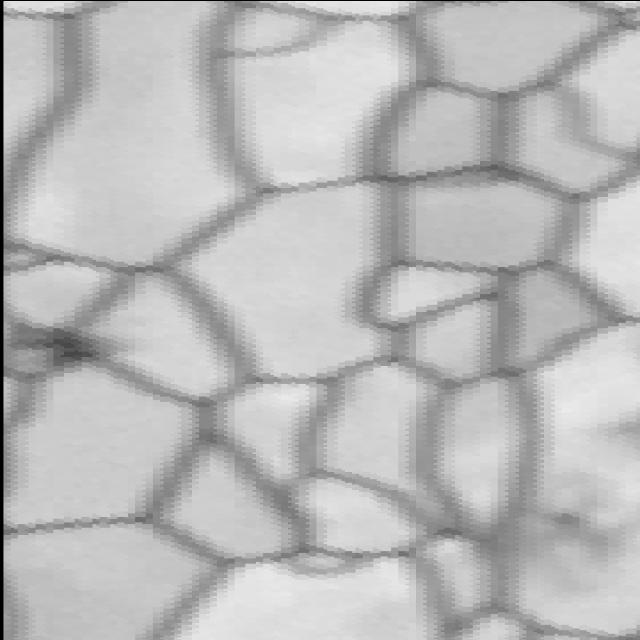good_void: (354, 467, 640, 609), (0, 318, 146, 382)
